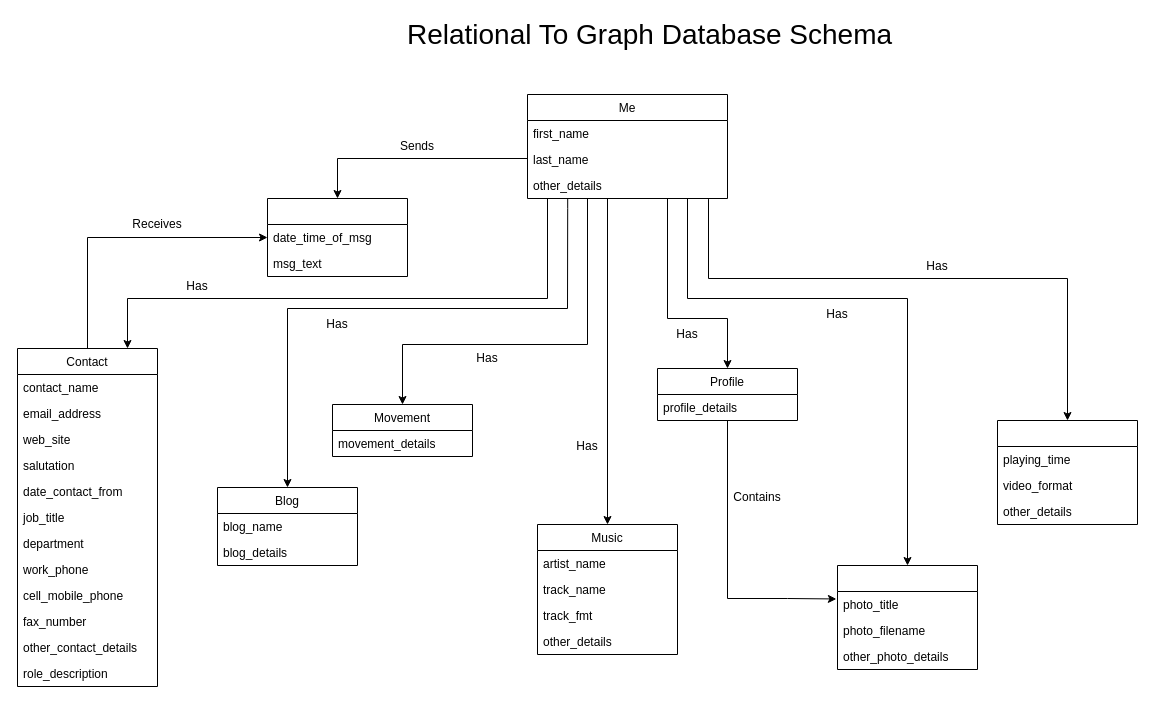
This 1155x706 diagram has some shape labels left out. The shapes that lost their labels are listed below. From the top down, each one's box as (x1, y1, x2, y2) in pixels, then its label:
(266, 198, 408, 276): Message
(996, 420, 1138, 524): Videos
(836, 564, 978, 670): Photos
